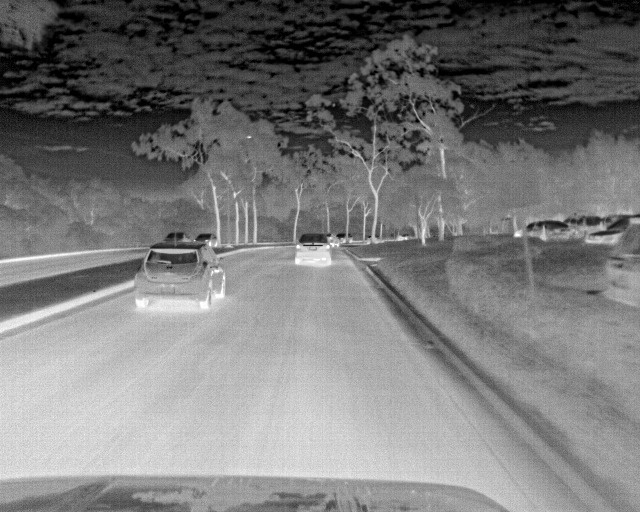vehicle: (130, 242, 229, 313), (295, 235, 333, 270), (524, 219, 572, 244)
